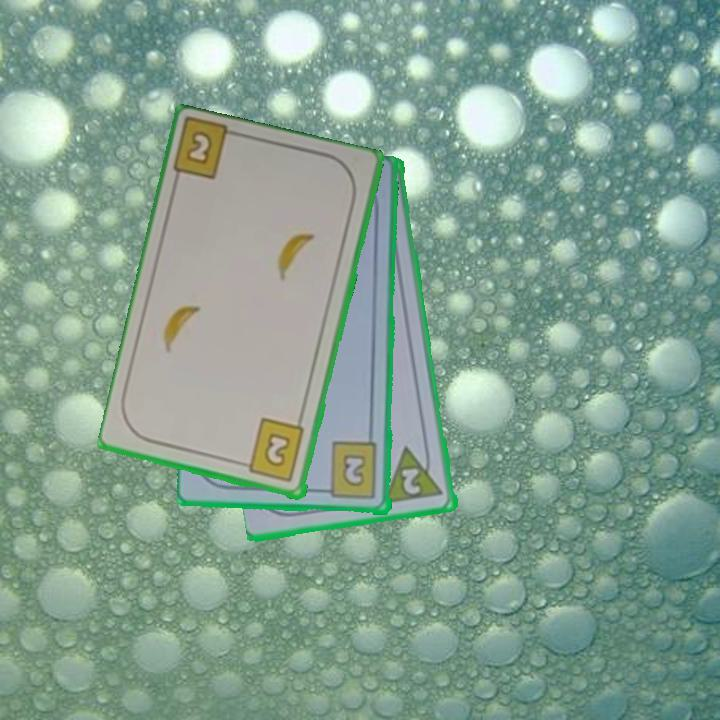2b: (237, 416, 308, 485), (318, 440, 381, 502), (182, 127, 216, 168)
2p: (398, 465, 424, 498)
